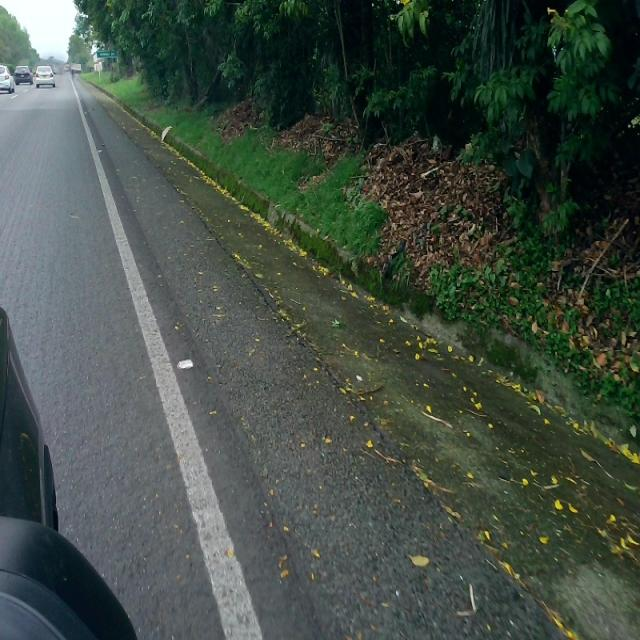DITCH: (74, 72, 638, 638)
